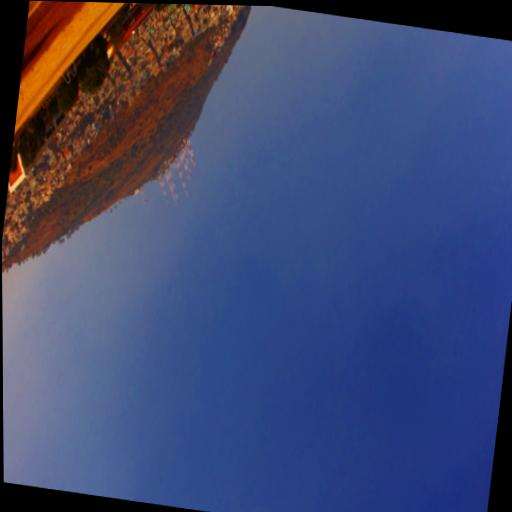drones: (173, 154, 176, 160)
